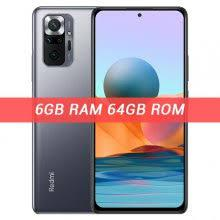Smartphone: (92, 8, 187, 217), (33, 9, 107, 211)
